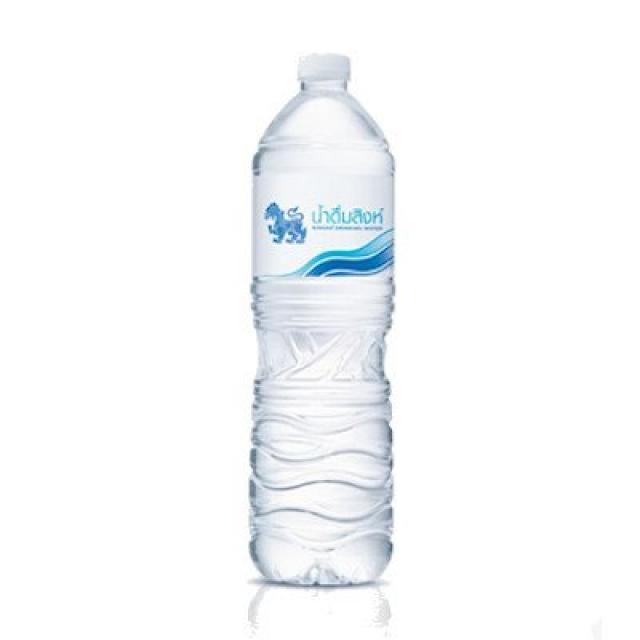plastic_bottle: (249, 55, 395, 587)
